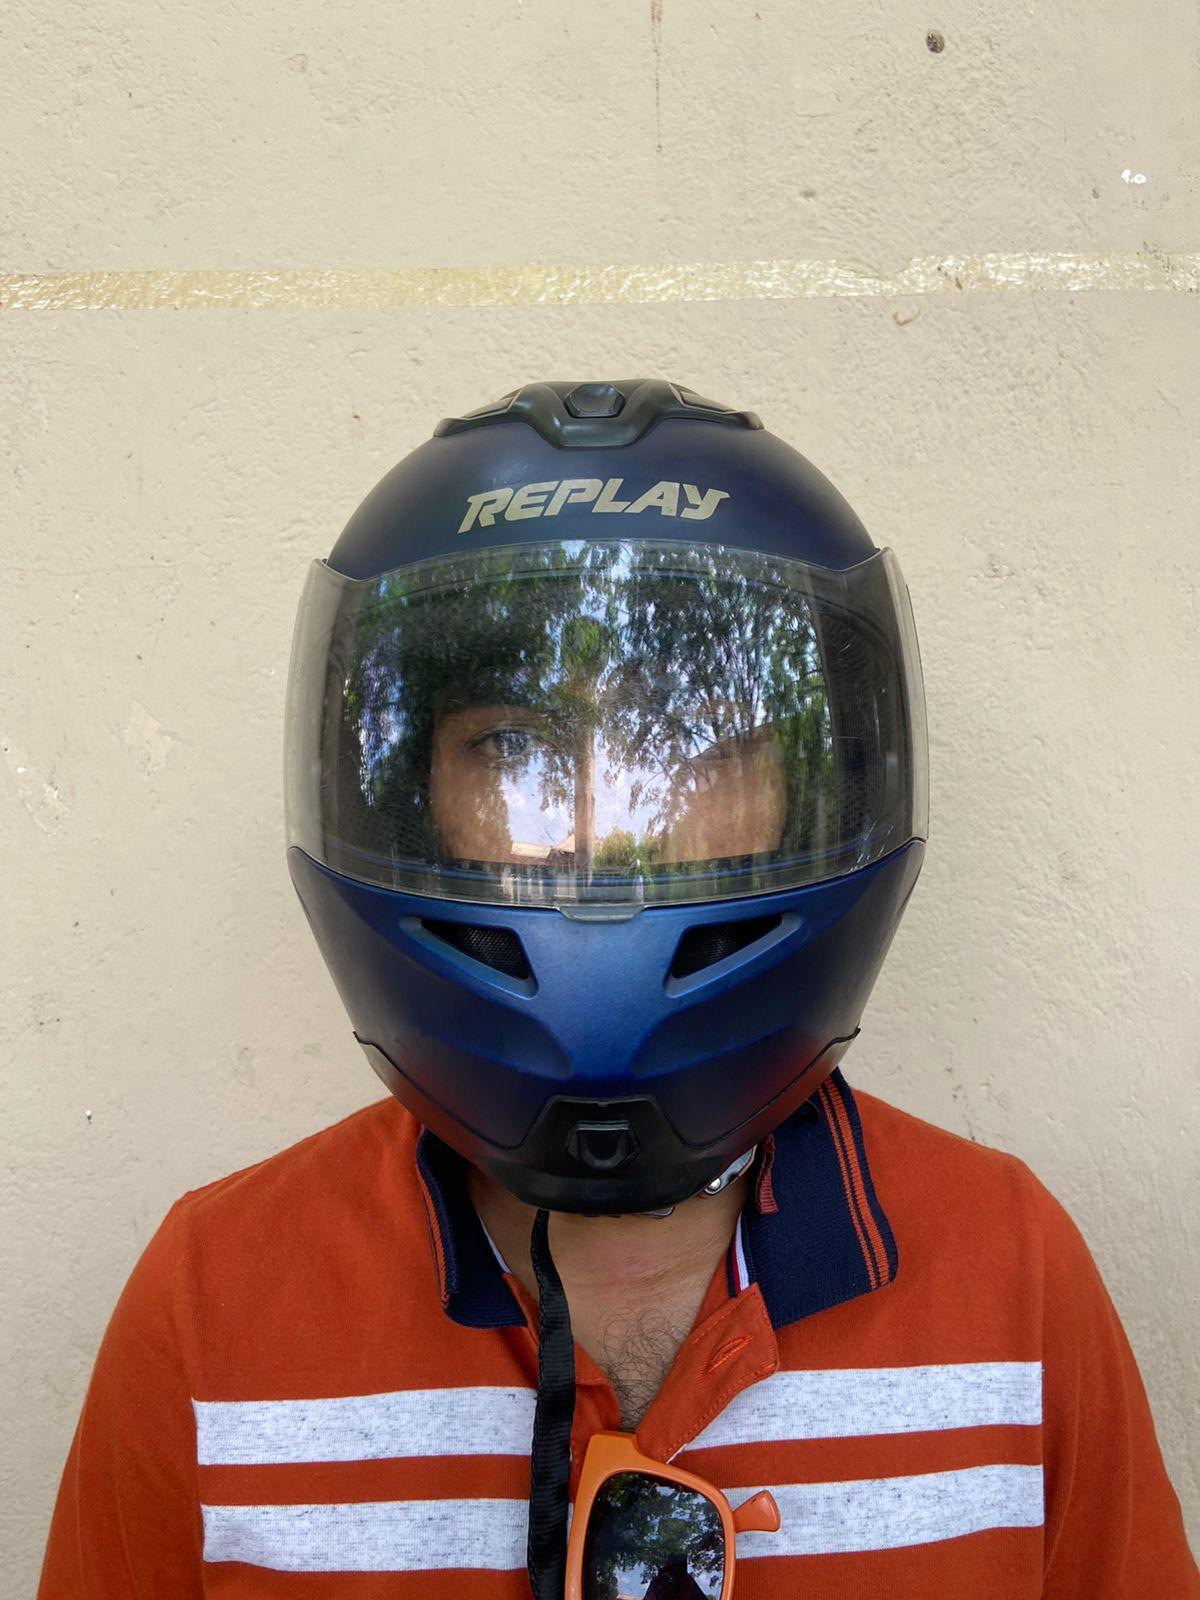helmet: (281, 375, 928, 1221)
